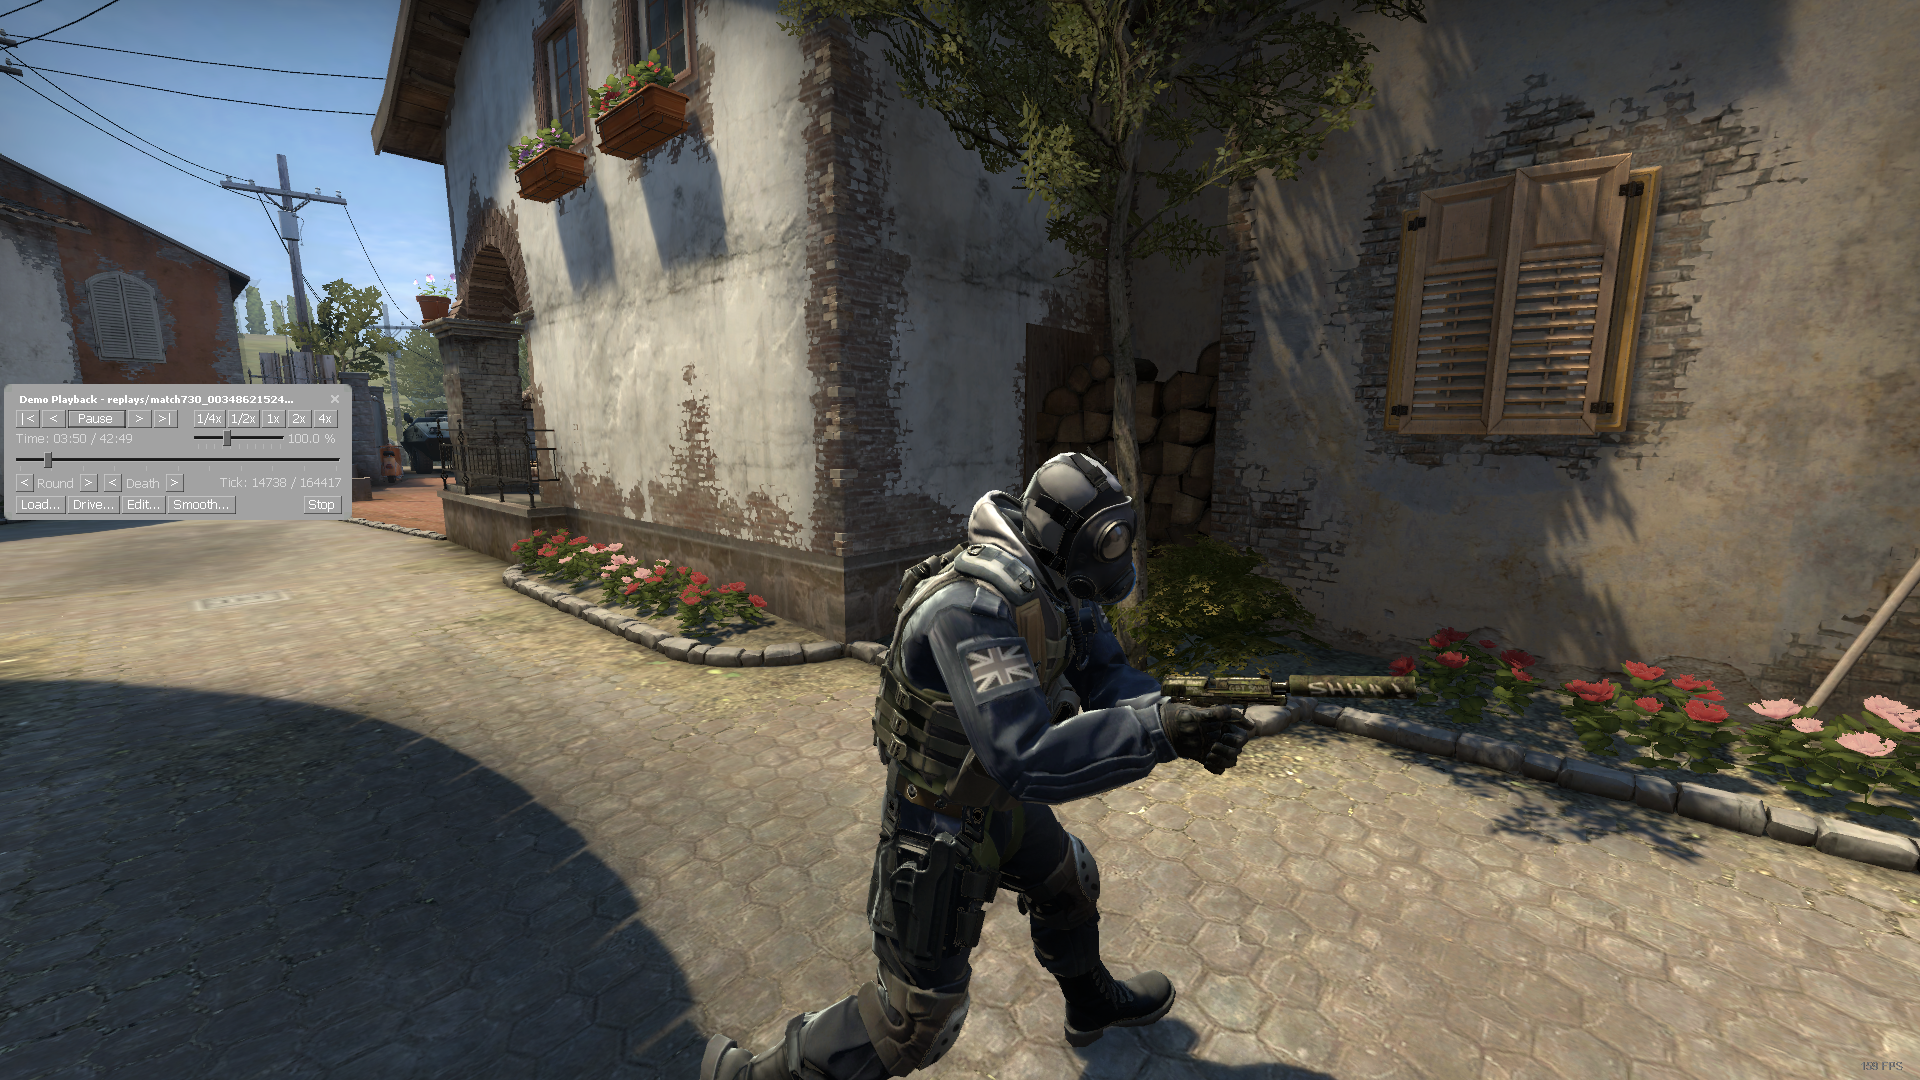ct: (698, 444, 1266, 1080)
